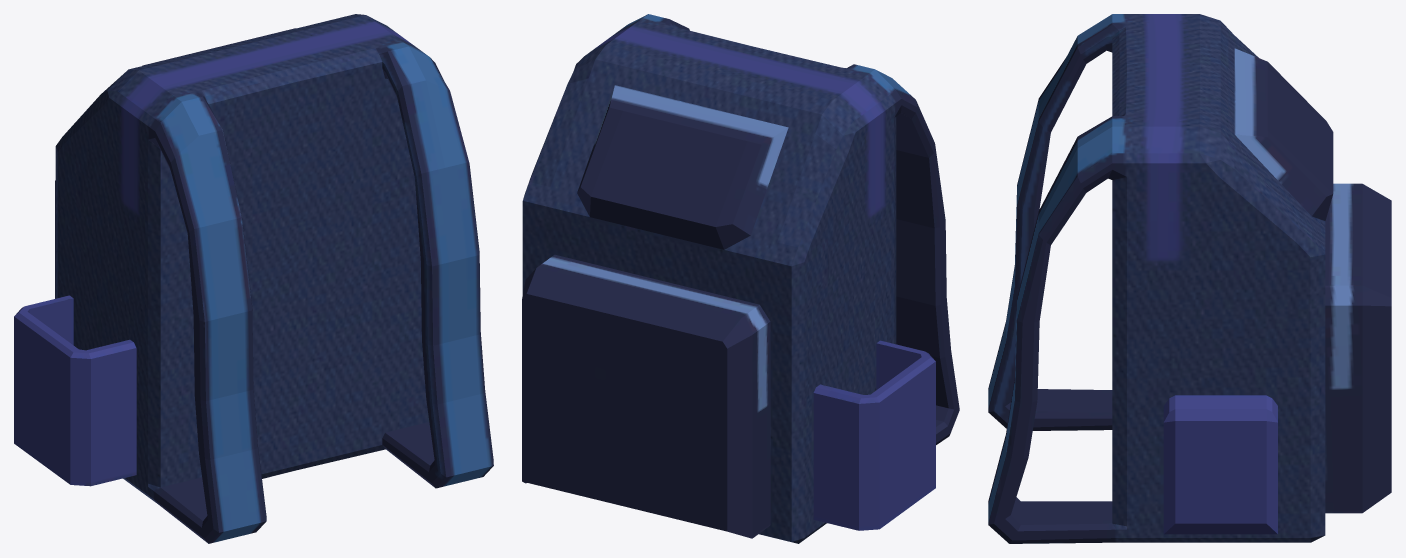
The model's file is BagClosedBlue.fbx.
The picture shows the model from 3 angles, left to right: view 1: azimuth 30°, elevation 25°; view 2: azimuth 150°, elevation 25°; view 3: azimuth 270°, elevation 25°; orthographic projection.
Visible parts, largest first — view 1: backpack shield; view 2: backpack shield; view 3: backpack shield.
Part boxes in pixels (x1,y1,x2,y2): backpack shield: (14, 14, 493, 543); backpack shield: (522, 14, 959, 543); backpack shield: (988, 14, 1391, 543).
Size of the model in its own units: 915 by 962 by 867.
